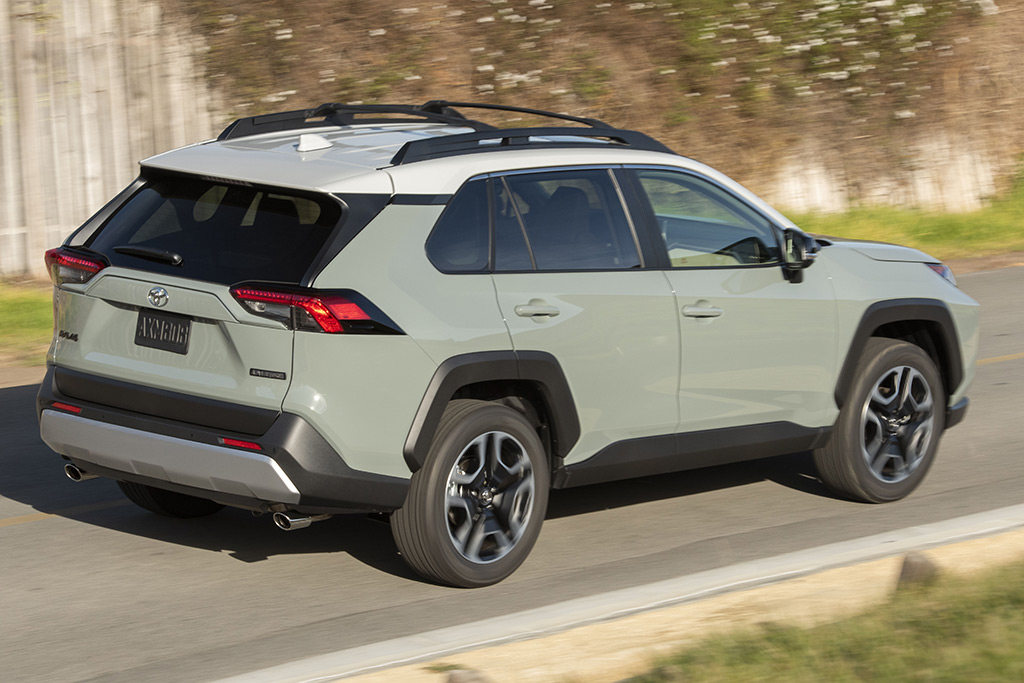Toyota RAV-4: (34, 116, 981, 592)
